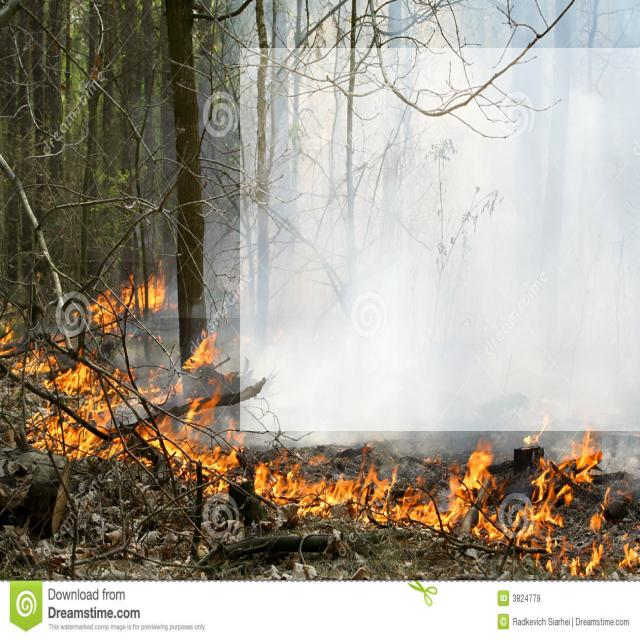Fire: (49, 318, 602, 560), (66, 262, 160, 333)
Smoke: (240, 48, 640, 431)
